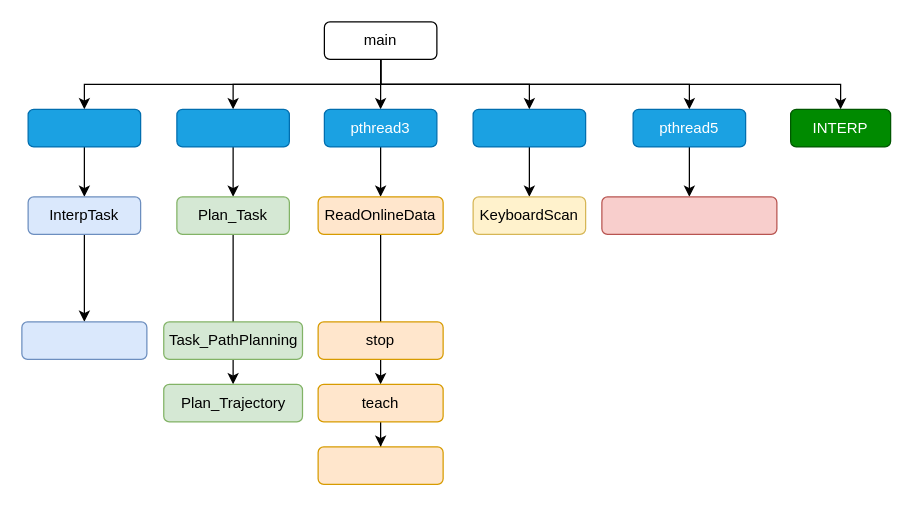
Image size: 913x506. Some labels were removed from this diagram. The shapes that lost their labels are listed below. From the top down, each one's centre as x and y in pixels, then its label:
At (x=84, y=127): "pthread1".
At (x=232, y=127): "pthread2".
At (x=529, y=127): "pthread4".
At (x=689, y=215): "trajectory_generator_task".
At (x=84, y=340): "LFS_Interpolation".
At (x=380, y=465): "auto".
